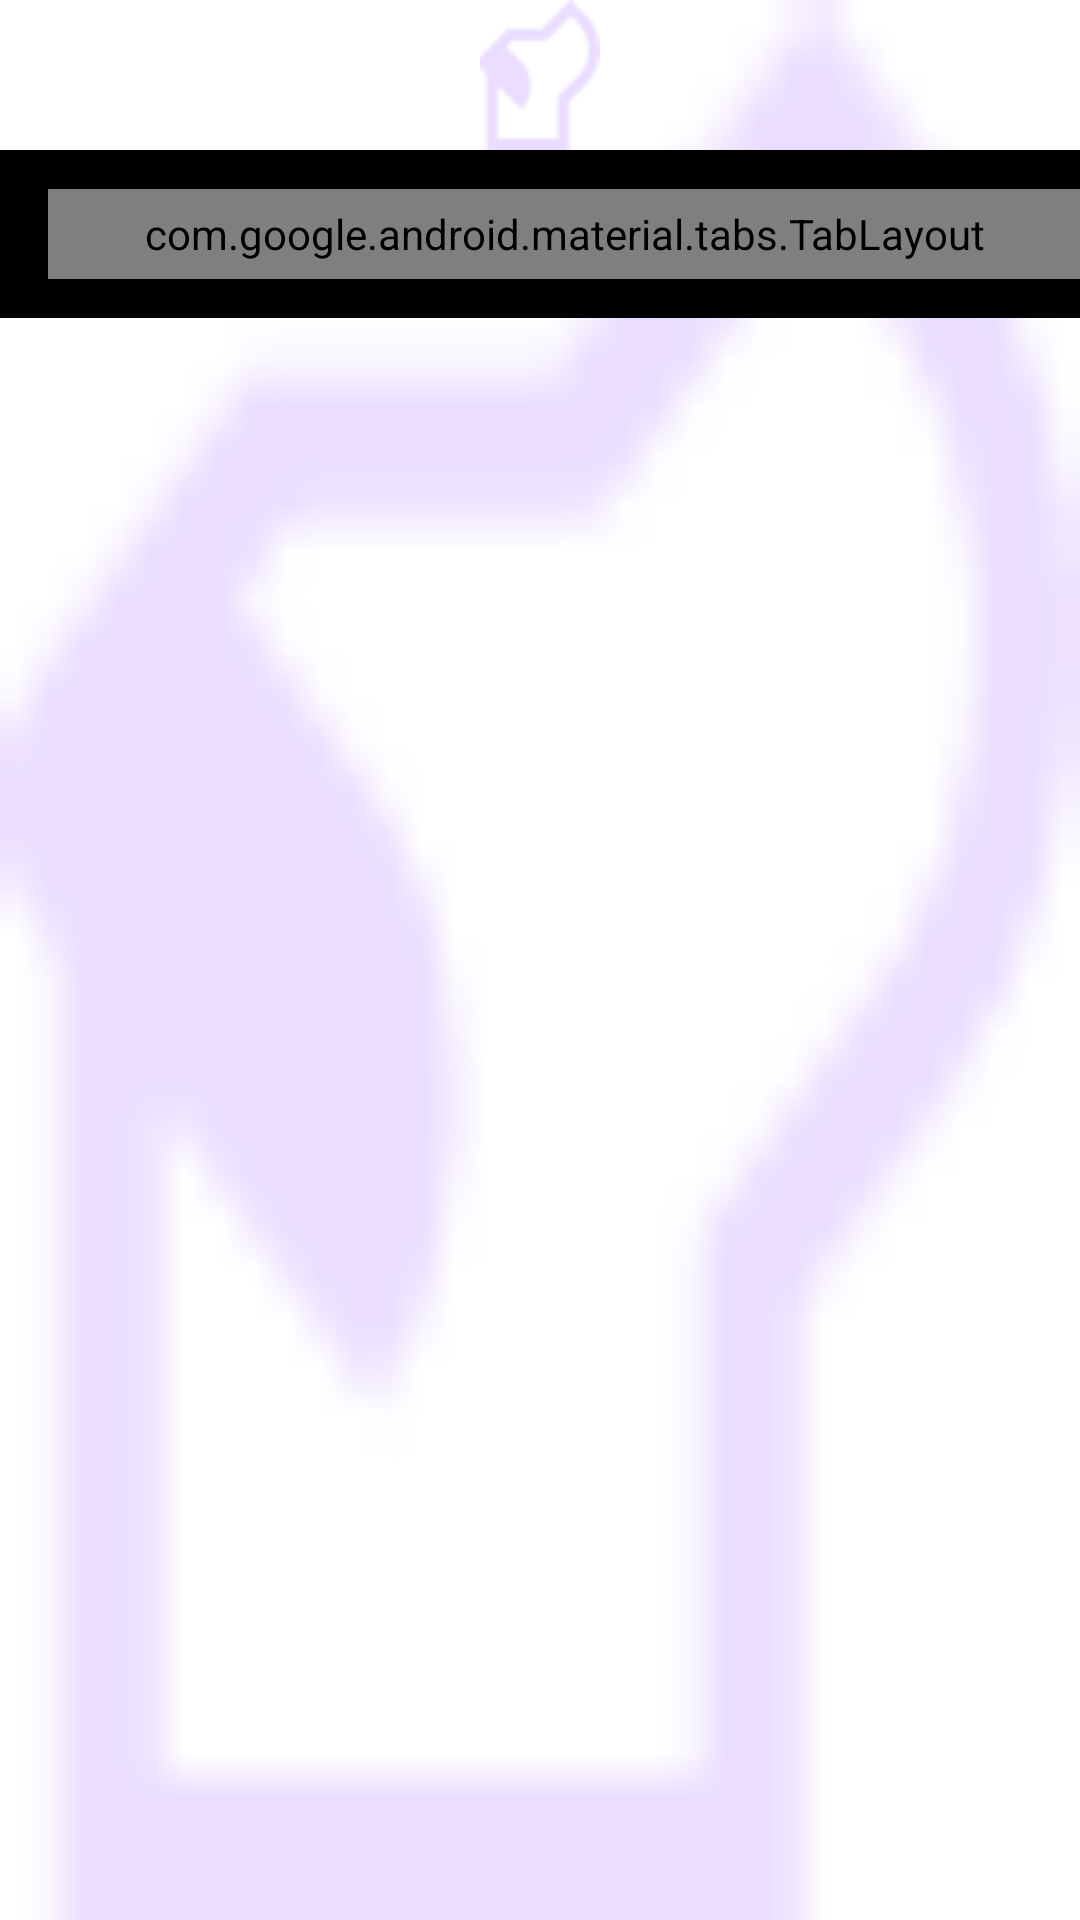

Screen size 1080px x 1920px. Icon name, then its center in pixels as (x,y):
sound detection dog barking: (540,76)
